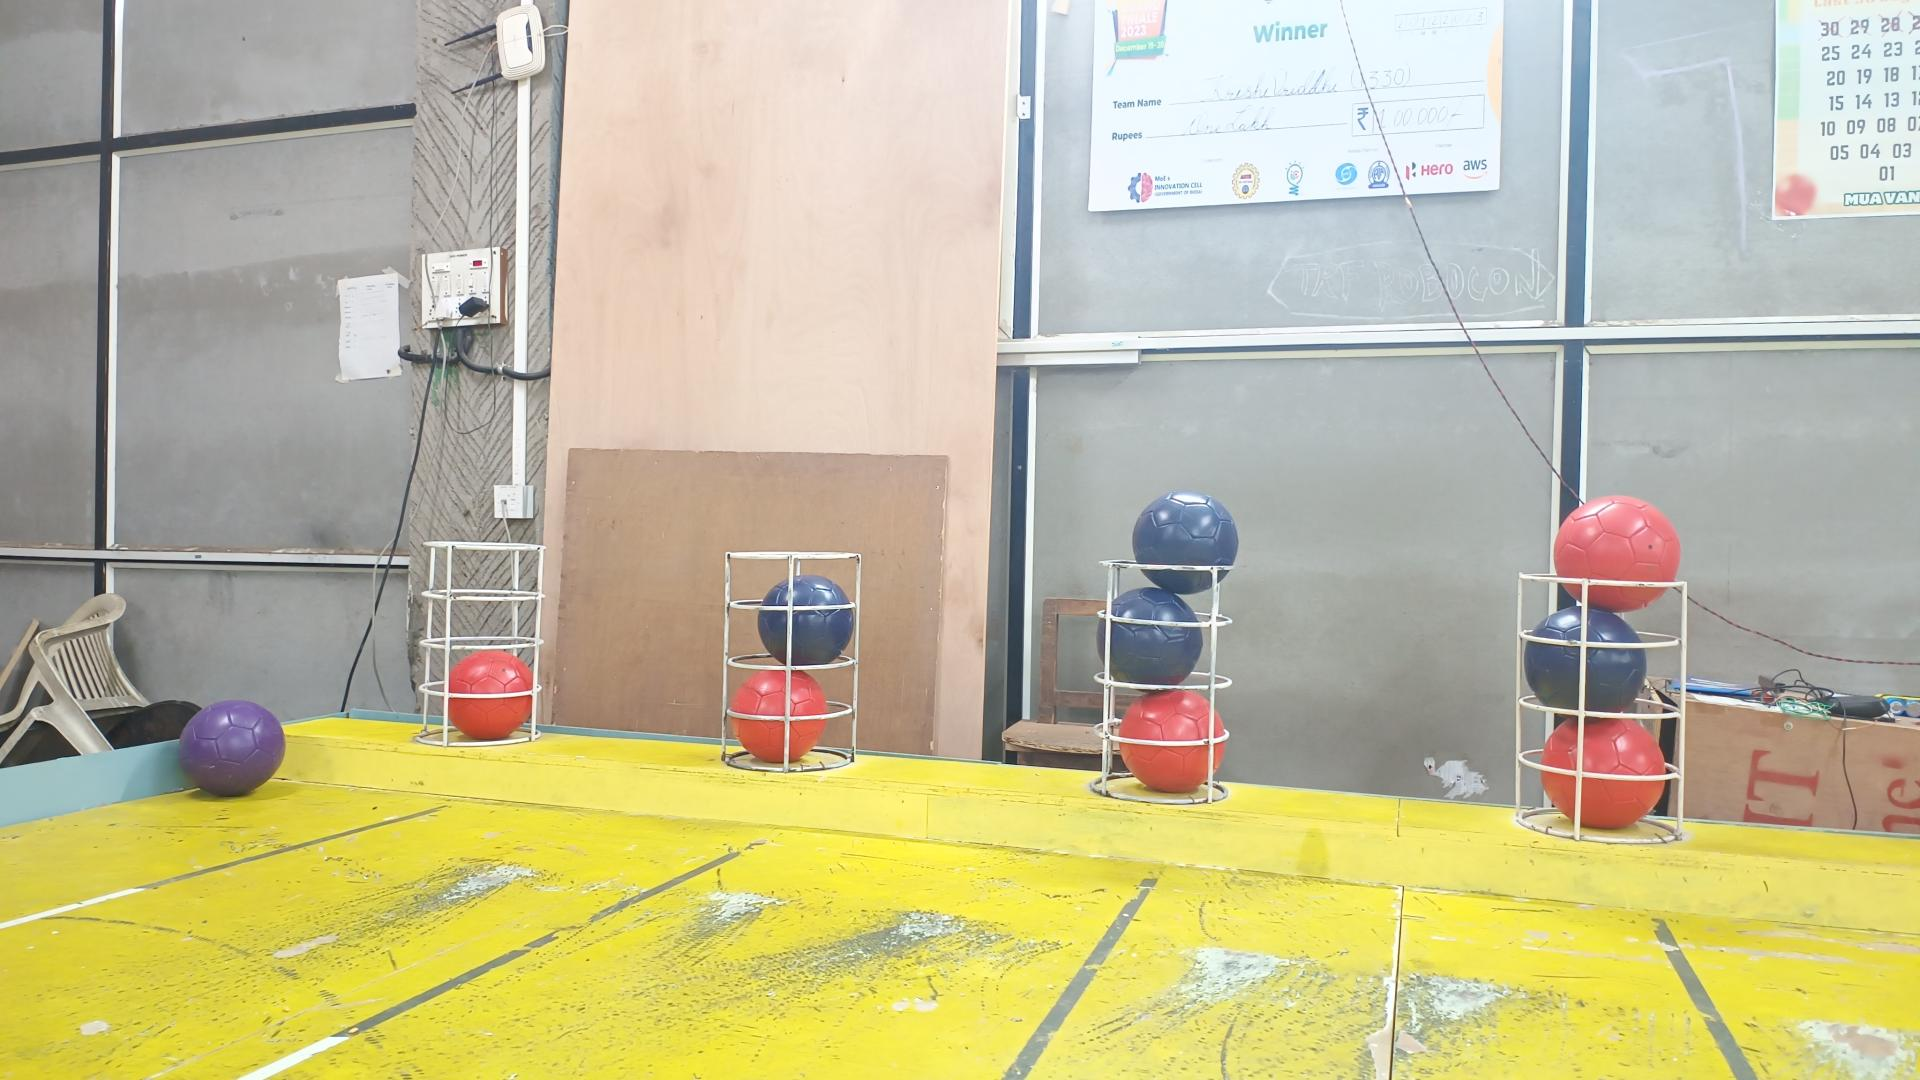dhoka: (1523, 608, 1646, 712), (1095, 585, 1204, 686), (1133, 492, 1237, 596), (757, 574, 855, 667)
laale: (1552, 495, 1680, 612), (1542, 716, 1668, 828), (1117, 690, 1226, 791), (732, 667, 828, 765), (446, 649, 533, 738)
